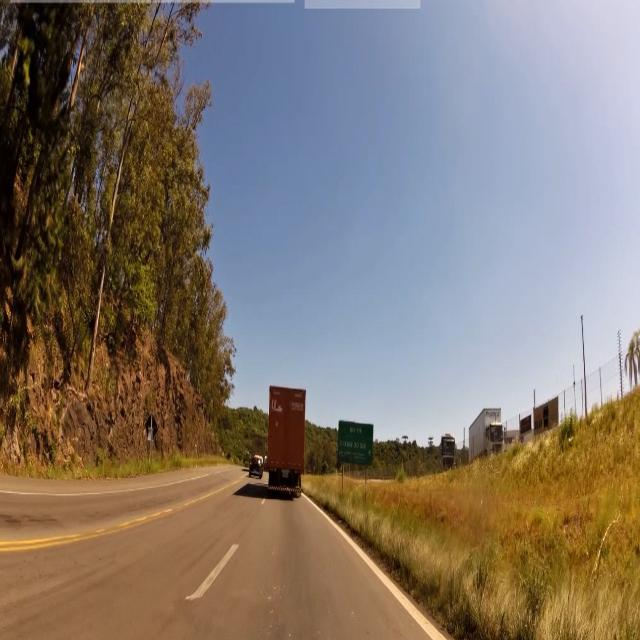I-4: (340, 423, 372, 463)
